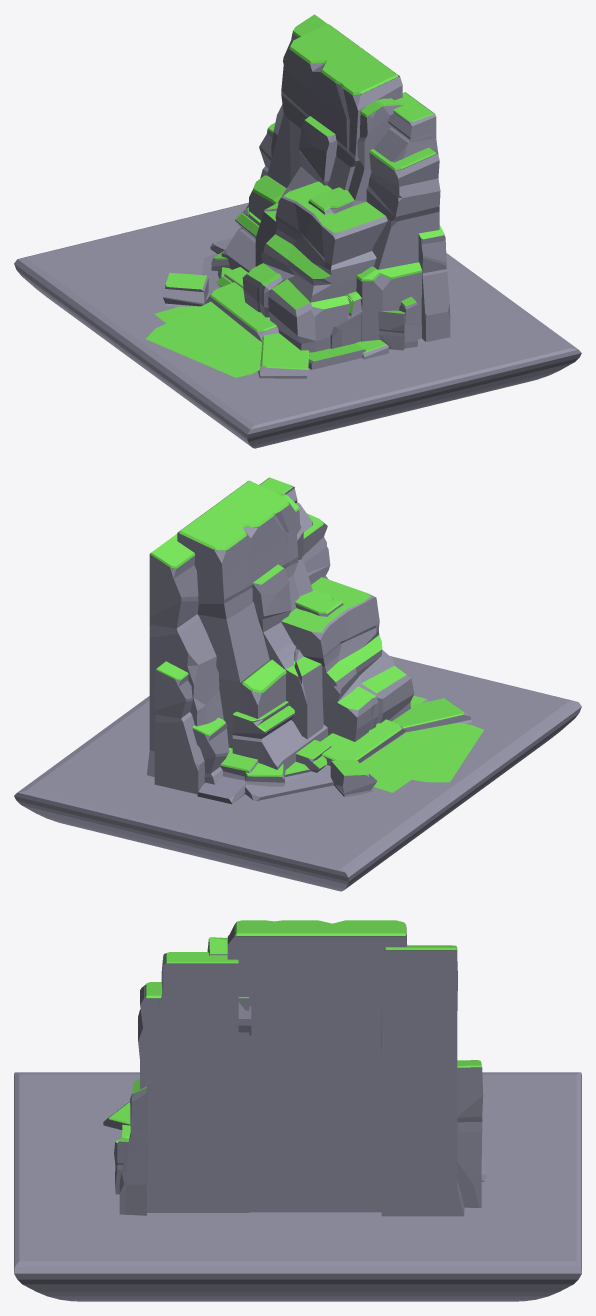
File: LowPoly_Cliff.fbx
The picture shows the model from 3 angles, top to bottom: view 1: azimuth 30°, elevation 25°; view 2: azimuth 150°, elevation 25°; view 3: azimuth 270°, elevation 25°; orthographic projection. The views are drawn at different scales.
Parts seen in each view (by area): view 1: Cliff; view 2: Cliff; view 3: Cliff.
Part boxes in pixels (left/top/right/bottom): Cliff: left=14, top=14, right=581, bottom=448; Cliff: left=14, top=477, right=581, bottom=891; Cliff: left=14, top=920, right=581, bottom=1301.
Bounding box in the file's own units: 1131 × 897 × 1368.
